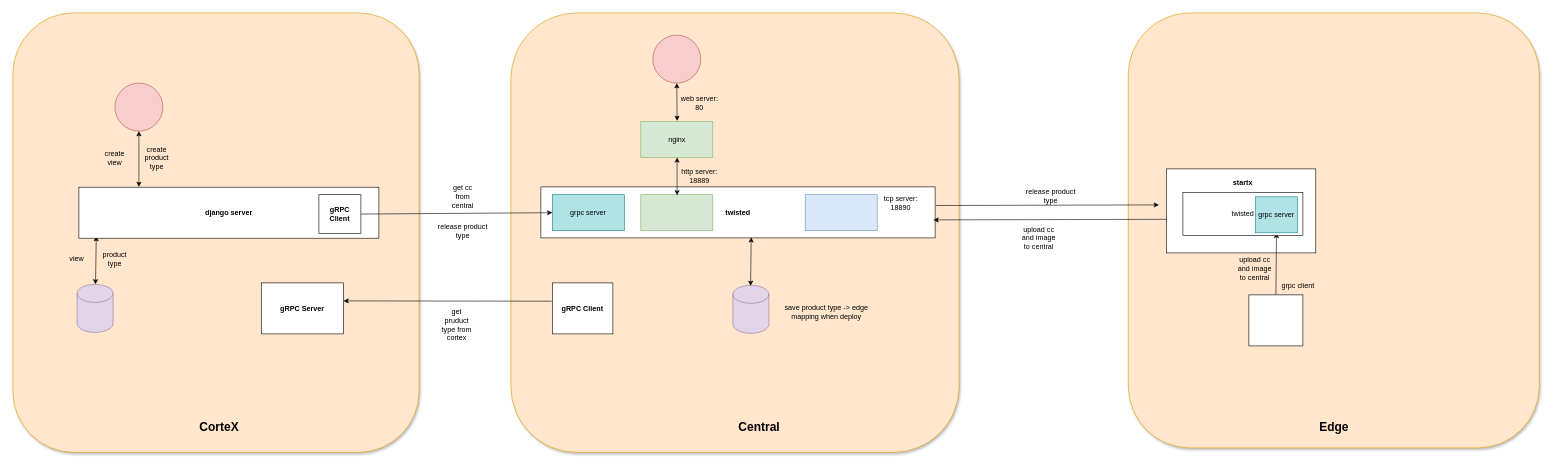
Some shapes in this 1553 by 467 pixel diagram are drawn without their labels. The shapes that lost their labels are listed below. From the top down, each one's centre as x and y in pixels, then its label:
At point (676, 58): "chrome".
At point (138, 106): "electron".
At point (676, 212): "django wsgi".
At point (841, 212): "twisted tcp server".
At point (1275, 320): "optix".
